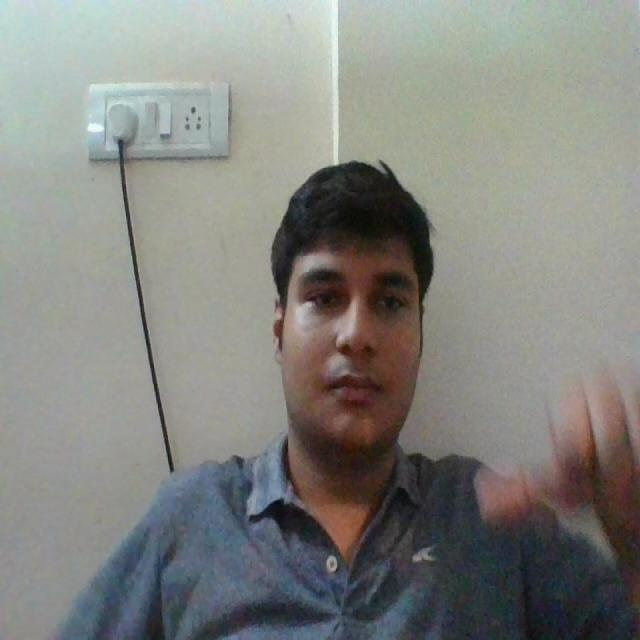Yes: (473, 367, 640, 578)
